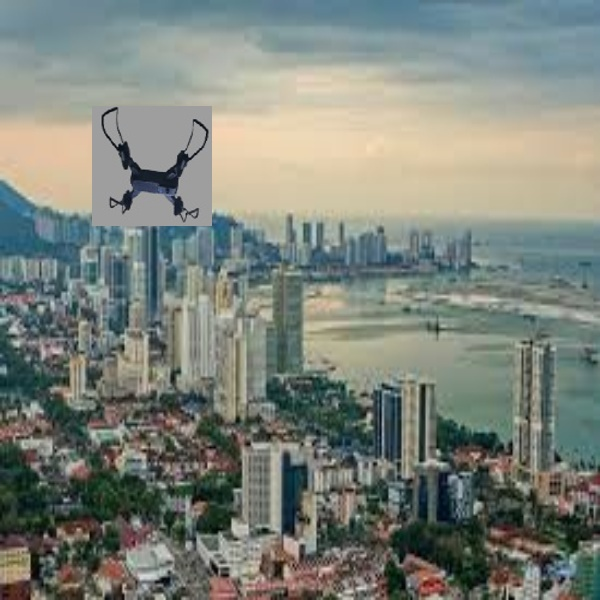drone: (90, 107, 212, 227)
